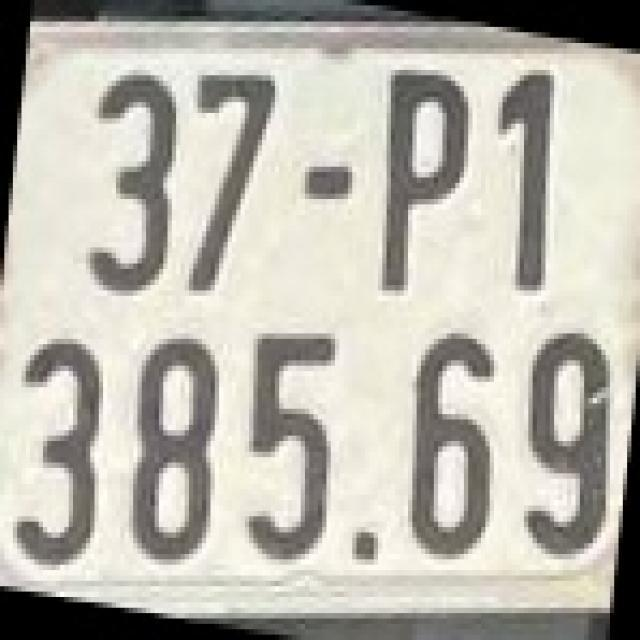1: (489, 54, 572, 296)
3: (86, 64, 176, 296), (17, 333, 103, 565)
5: (240, 322, 340, 564)
6: (404, 323, 498, 559)
7: (184, 64, 280, 296)
8: (129, 328, 219, 565)
9: (520, 323, 610, 559)
P: (373, 59, 472, 296)
